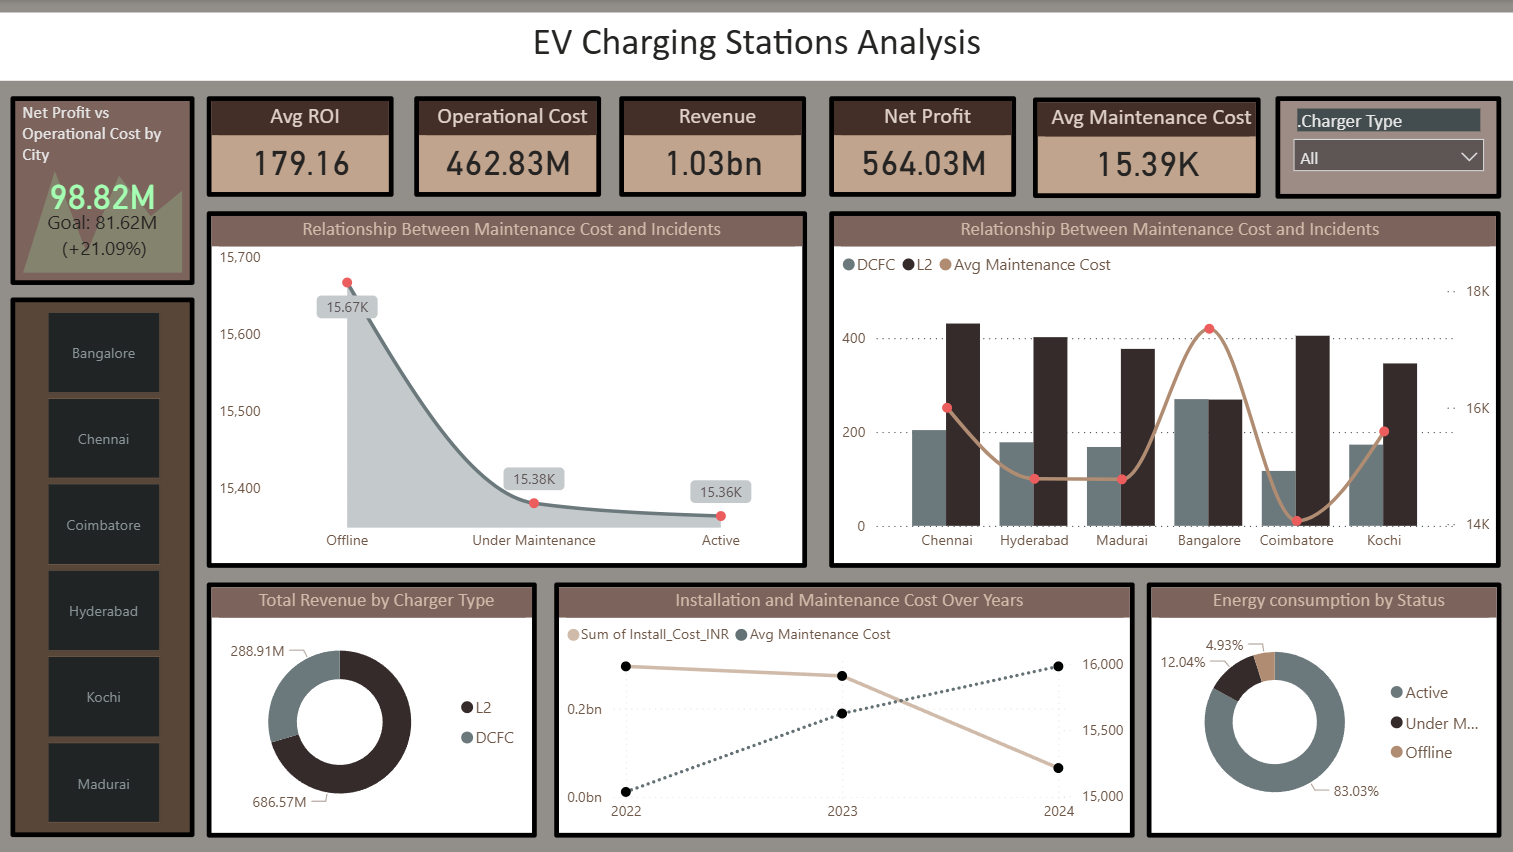

Layout of this report page (visuals, bound fields, positions):
{"tool":"powerbi","page":{"name":"Page 1","canvas":[1280,720],"ordinal":0},"visuals":[{"type":"kpi","title":"Net Profit vs Operational Cost by City","fields":{"Indicator":["ev_charging_cleaned_data.Total Net Profit"],"Goal":["ev_charging_cleaned_data.Total Operational Cost"],"TrendLine":["ev_charging_cleaned_data.City"]},"box":[11,81,155.1,159.2],"z":0},{"type":"slicer","fields":{"Values":["ev_charging_cleaned_data.City"]},"box":[11,251.1,155.1,455.6],"z":1000},{"type":"slicer","fields":{"Values":["ev_charging_cleaned_data.Charger_Type"]},"box":[1077.2,81,190.7,86.4],"z":2000},{"type":"textbox","box":[0,11,1280.3,57.6],"z":3000},{"type":"areaChart","title":"Relationship Between Maintenance Cost and Incidents","fields":{"Category":["ev_charging_cleaned_data.Operational_Status"],"Y":["ev_charging_cleaned_data.Avg Maintenance Cost"]},"box":[175.6,178.4,506.3,300.5],"z":4000},{"type":"card","title":"Avg ROI","fields":{"Values":["ev_charging_cleaned_data.Avg ROI"]},"box":[175.6,81,157.8,85.1],"z":5000},{"type":"card","title":"Net Profit","fields":{"Values":["ev_charging_cleaned_data.Total Net Profit"]},"box":[701.2,81,157.8,85.1],"z":6000},{"type":"card","title":"Operational Cost","fields":{"Values":["ev_charging_cleaned_data.Total Operational Cost"]},"box":[351.3,81,157.8,85.1],"z":7000},{"type":"card","title":"Revenue","fields":{"Values":["ev_charging_cleaned_data.Total Revenue"]},"box":[524.2,81,157.8,85.1],"z":8000},{"type":"card","title":"Avg Maintenance Cost","fields":{"Values":["ev_charging_cleaned_data.Avg Maintenance Cost"]},"box":[872.7,82.3,192.1,85.1],"z":9000},{"type":"donutChart","title":"Total Revenue by Charger Type","fields":{"Category":["ev_charging_cleaned_data.Charger_Type"],"Y":["ev_charging_cleaned_data.Total Revenue"]},"box":[175.6,491.3,278.6,215.4],"z":10000},{"type":"lineChart","title":"Installation and Maintenance Cost Over Years","fields":{"Category":["ev_charging_cleaned_data.Install_Date.Variation.Date Hierarchy.Year","ev_charging_cleaned_data.Install_Date.Variation.Date Hierarchy.Quarter","ev_charging_cleaned_data.Install_Date.Variation.Date Hierarchy.Month","ev_charging_cleaned_data.Install_Date.Variation.Date Hierarchy.Day"],"Y":["Sum(ev_charging_cleaned_data.Install_Cost_INR)"],"Y2":["ev_charging_cleaned_data.Avg Maintenance Cost"]},"box":[469.3,491.3,489.9,215.4],"z":11000},{"type":"donutChart","title":"Energy consumption by Status","fields":{"Category":["ev_charging_cleaned_data.Operational_Status"],"Y":["Sum(ev_charging_cleaned_data.Total_Energy_Dispensed_kWh)"]},"box":[968.8,491.3,299.1,215.4],"z":12000},{"type":"lineClusteredColumnComboChart","title":"Relationship Between Maintenance Cost and Incidents","fields":{"Y2":["ev_charging_cleaned_data.Avg Maintenance Cost"],"Y":["ev_charging_cleaned_data.Total Maintenance Incidents"],"Category":["ev_charging_cleaned_data.City"],"Series":["ev_charging_cleaned_data.Charger_Type"]},"box":[701.2,178.4,566.7,300.5],"z":13000}]}

Visuals, with their boxes in screenshot pixels (x1, y1, x2, y2), scaled from the page's 1280x720 canvas onto the 1513x852 screenshot:
"Net Profit vs Operational Cost by City" kpi: box=[13, 96, 196, 284]
slicer - ev_charging_cleaned_data.City: box=[13, 297, 196, 836]
slicer - ev_charging_cleaned_data.Charger_Type: box=[1273, 96, 1499, 198]
textbox: box=[0, 13, 1512, 81]
"Relationship Between Maintenance Cost and Incidents" areaChart: box=[208, 211, 806, 567]
"Avg ROI" card: box=[208, 96, 394, 197]
"Net Profit" card: box=[829, 96, 1015, 197]
"Operational Cost" card: box=[415, 96, 602, 197]
"Revenue" card: box=[620, 96, 806, 197]
"Avg Maintenance Cost" card: box=[1032, 97, 1259, 198]
"Total Revenue by Charger Type" donutChart: box=[208, 581, 537, 836]
"Installation and Maintenance Cost Over Years" lineChart: box=[555, 581, 1134, 836]
"Energy consumption by Status" donutChart: box=[1145, 581, 1499, 836]
"Relationship Between Maintenance Cost and Incidents" lineClusteredColumnComboChart: box=[829, 211, 1499, 567]
